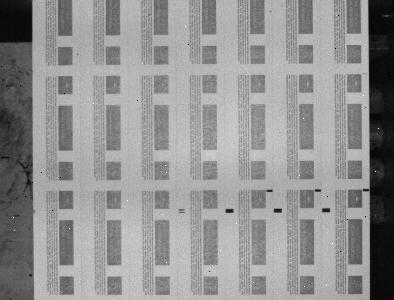backgroundclutter: (29, 273, 33, 277)
incorrect qblock: (178, 209, 185, 213)
qblock: (322, 208, 331, 212), (226, 209, 234, 213), (274, 208, 282, 212)
smallqblock: (315, 189, 322, 192), (267, 189, 273, 192), (364, 189, 370, 191)
